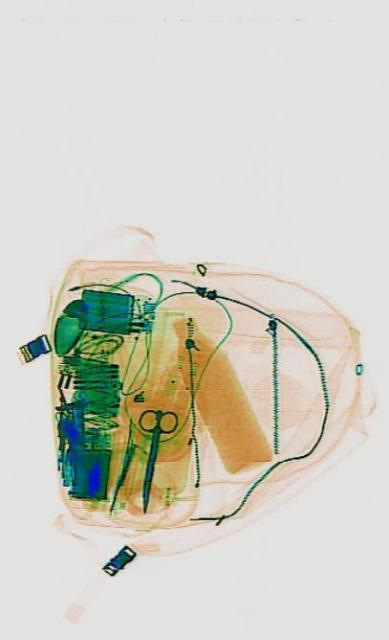Scissors: (124, 399, 178, 518)
